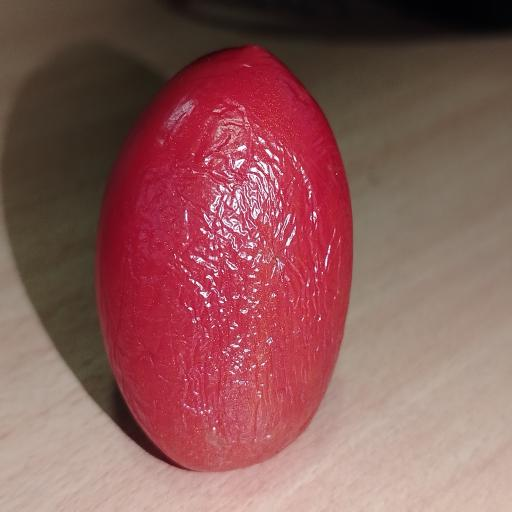spoiled: (96, 47, 352, 470)
